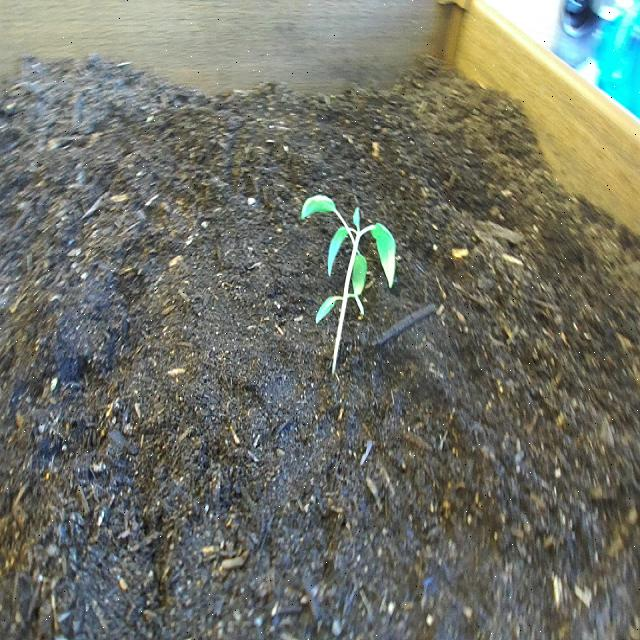Healthy: (294, 174, 403, 388)
